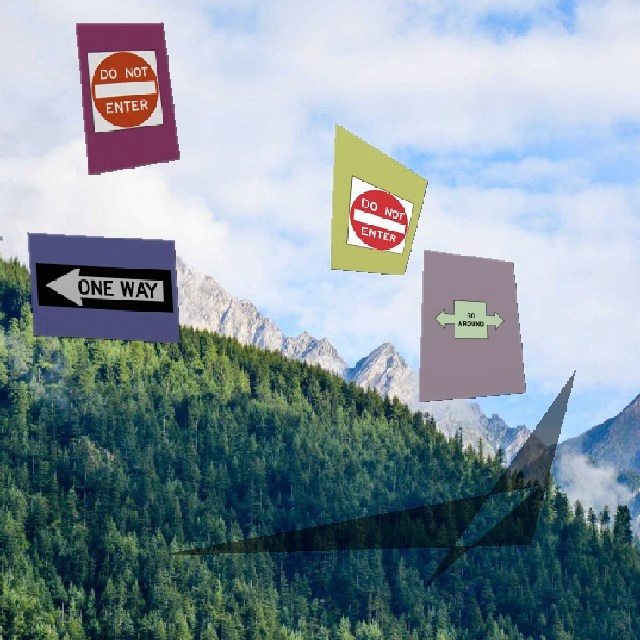DO_NOT_ENTER: (84, 48, 164, 132), (338, 174, 416, 254)
GO_AROUND: (433, 298, 504, 338)
ONE_WAY_ left: (34, 262, 172, 312)
